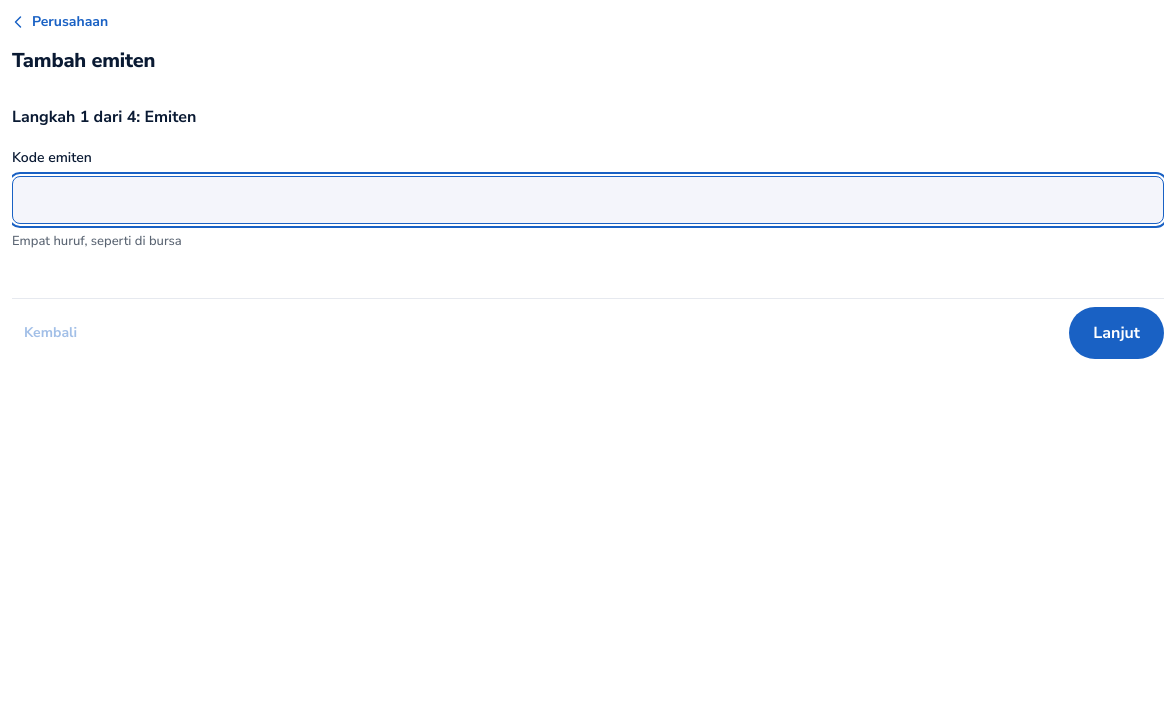
Test: Tambah emiten: wizard langkah (design.md §3.4, A6.2), kasus langkah dari AddScreen.test.tsx › step 1: ticker › without an exchange list the ticker may continue, with the reason shown
Type "QQQQ" into the field labelled "Kode emiten" at (588, 200), box left=12, top=176, right=1164, bottom=224
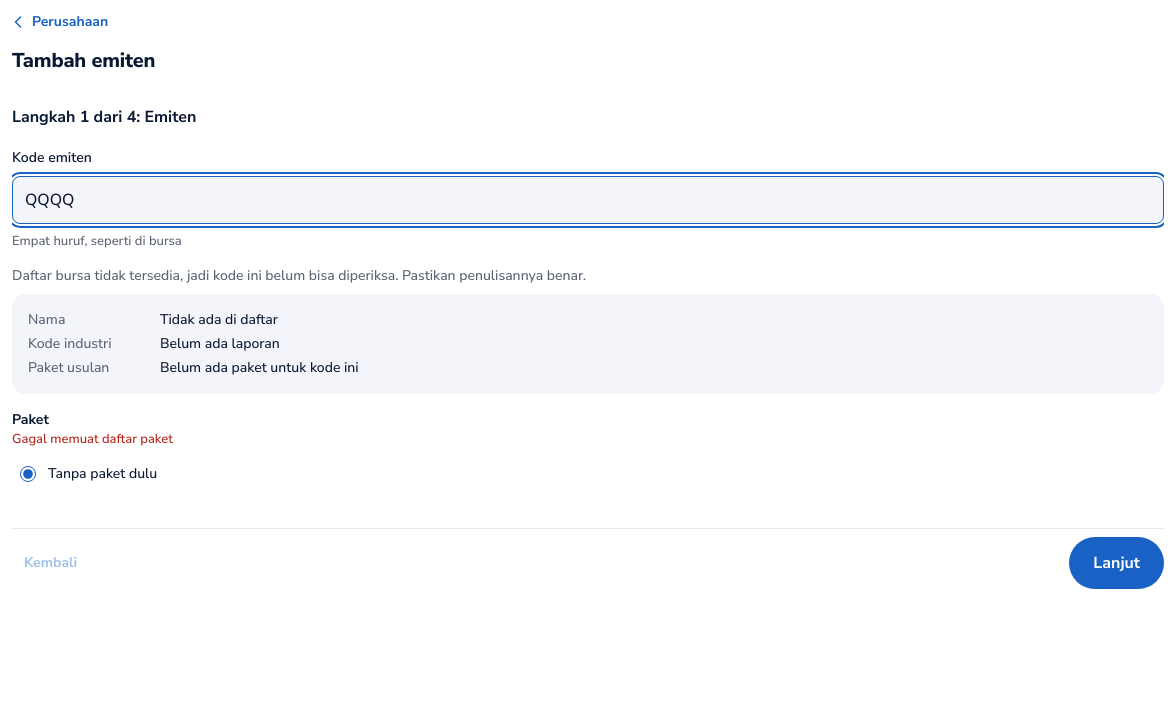
expect the text "Daftar bursa tidak tersedia" is shown: met, box left=12, top=266, right=586, bottom=285
Click the button "Lanjut" at (1117, 563), box left=1069, top=537, right=1164, bottom=589
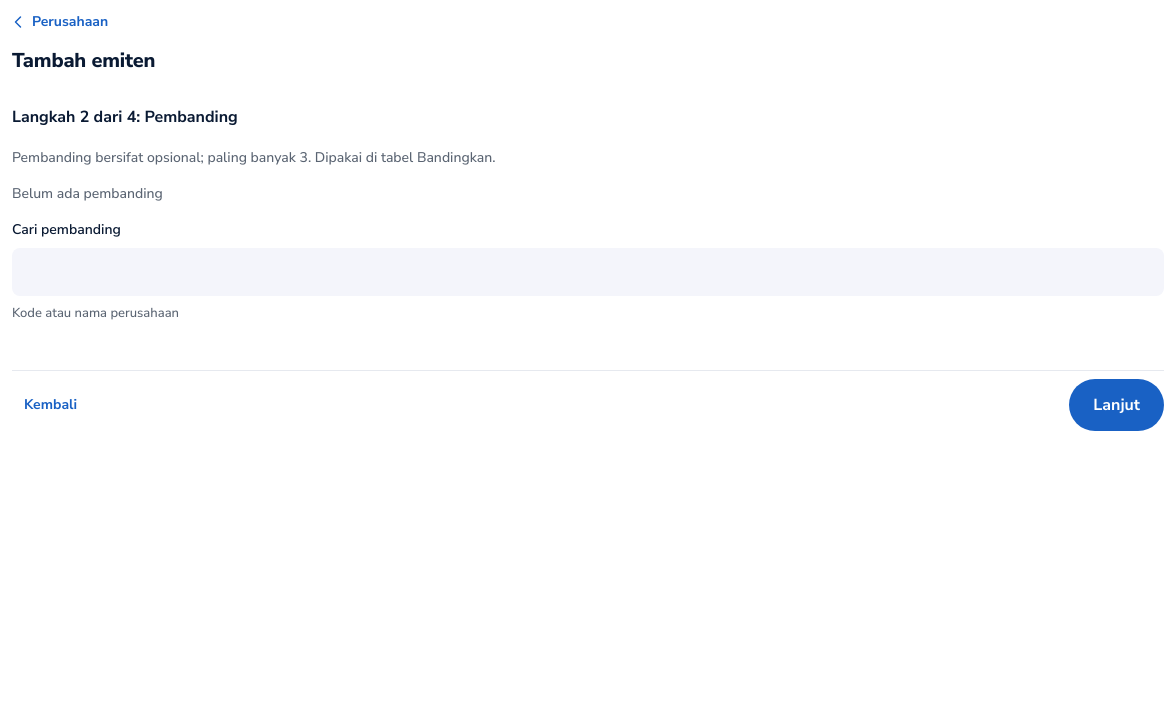
expect the heading "Langkah 2 dari 4: Pembanding" is shown: met, box left=12, top=106, right=238, bottom=128
